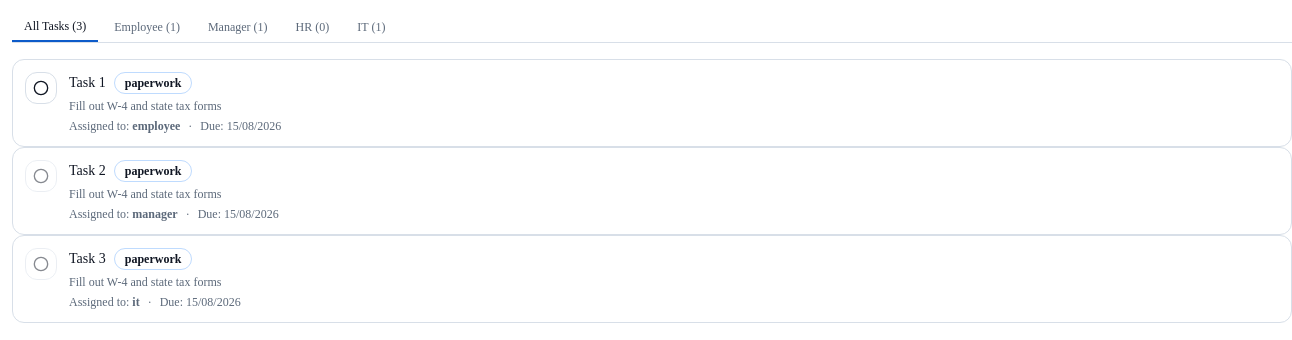
Test: FE-REC-008 — Onboarding Task Checklist › TaskChecklist › filters by assignee role when tab is clicked
Step 1. Click the button with test id "filter-it" → (371, 27), box x1=345 y1=12 x2=397 y2=42
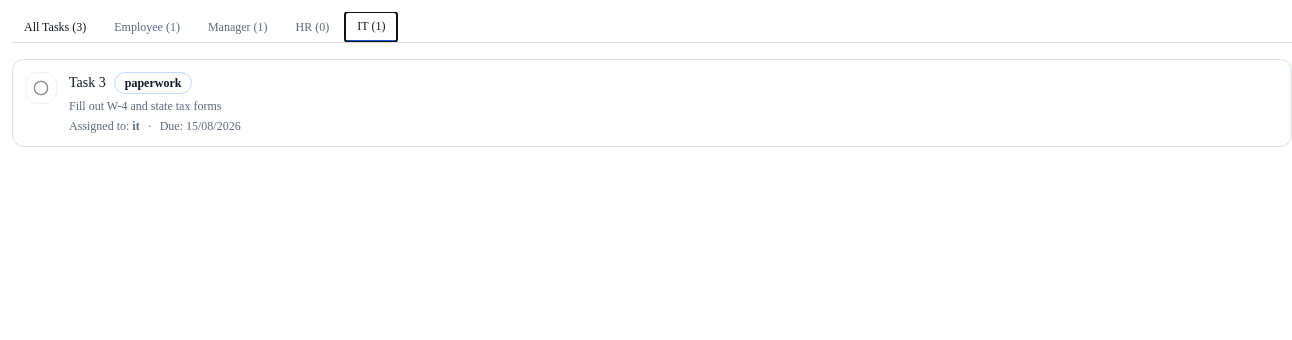
Expected: the text "Task 3" is shown, x1=69 y1=73 x2=106 y2=93
Expected: the text "Task 1" is gone
Expected: the text "Task 2" is gone
